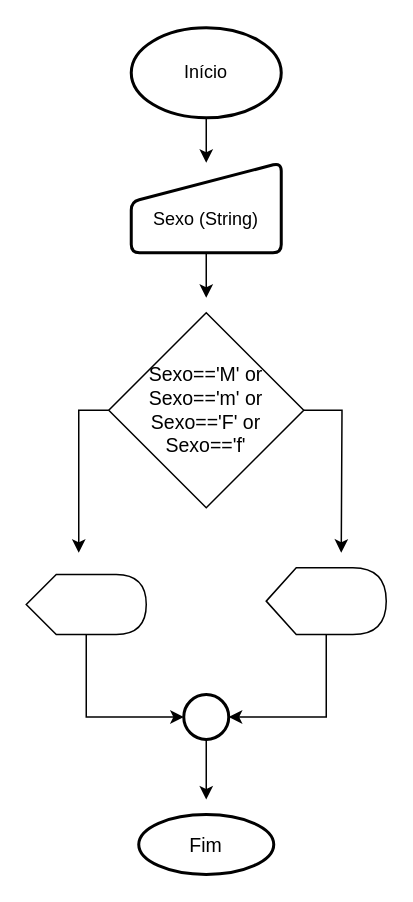
Some shapes in this 413 by 902 pixel diagram are drawn without their labels. The box of each missing label's shape, as (x1, y1, x2, y2) in pixels:
'Sexo Inválido': (25, 573, 146, 634)
'Sexo Válido': (265, 566, 386, 634)
